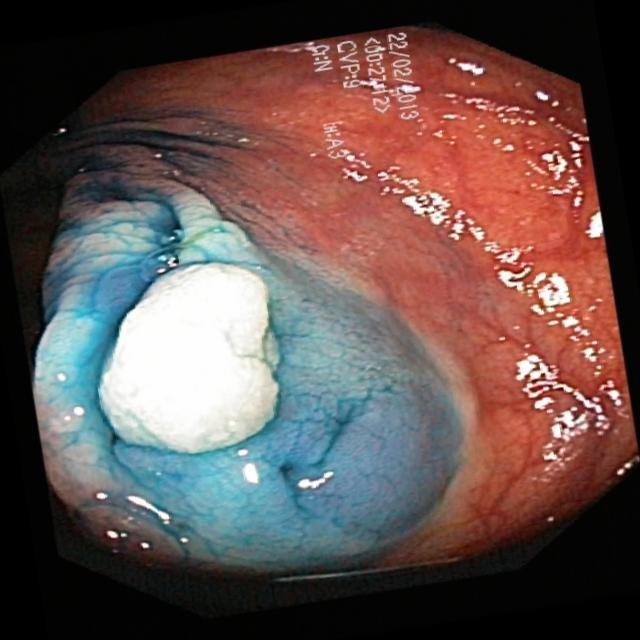dyed-lifted-polyps: (88, 254, 292, 465)
